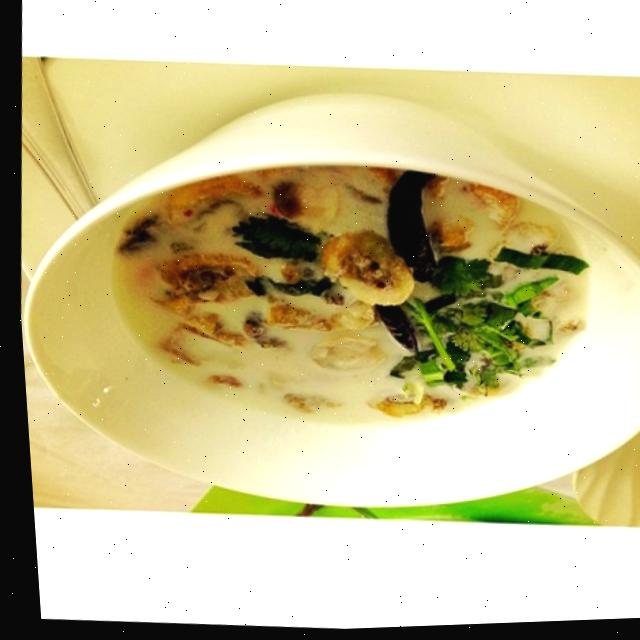汤锅炖物: (4, 52, 640, 539)
